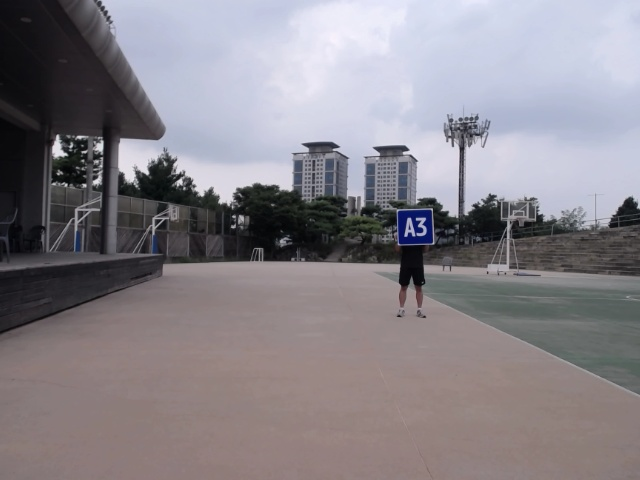delivery_a3: (397, 209, 435, 245)
